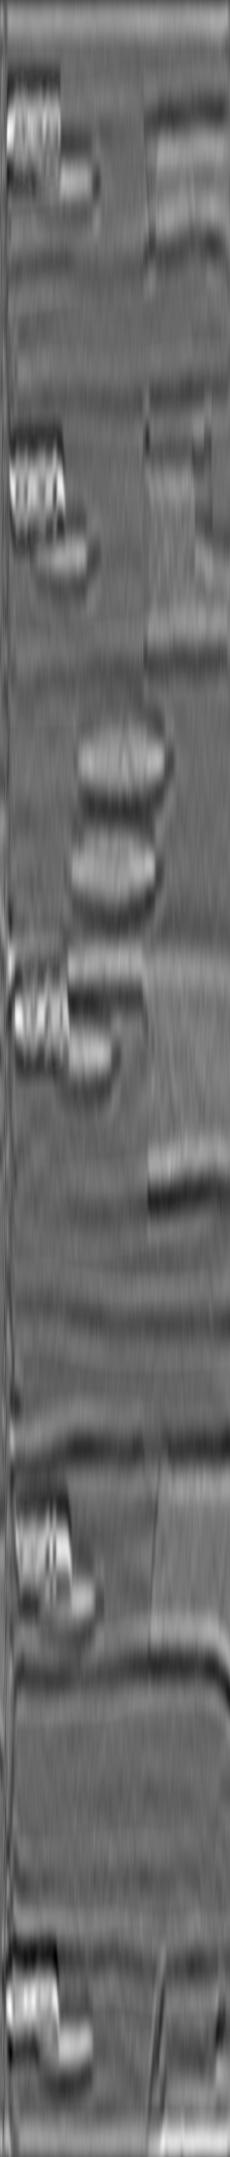hplug: (28, 2004, 116, 2088), (28, 1554, 109, 1641), (44, 1010, 124, 1095), (21, 510, 107, 587), (29, 140, 107, 215)
scal: (67, 704, 182, 814), (62, 812, 167, 922)
vplug: (135, 410, 215, 670), (145, 1435, 229, 1670), (134, 990, 222, 1211), (140, 1980, 230, 2145), (134, 100, 218, 254)
